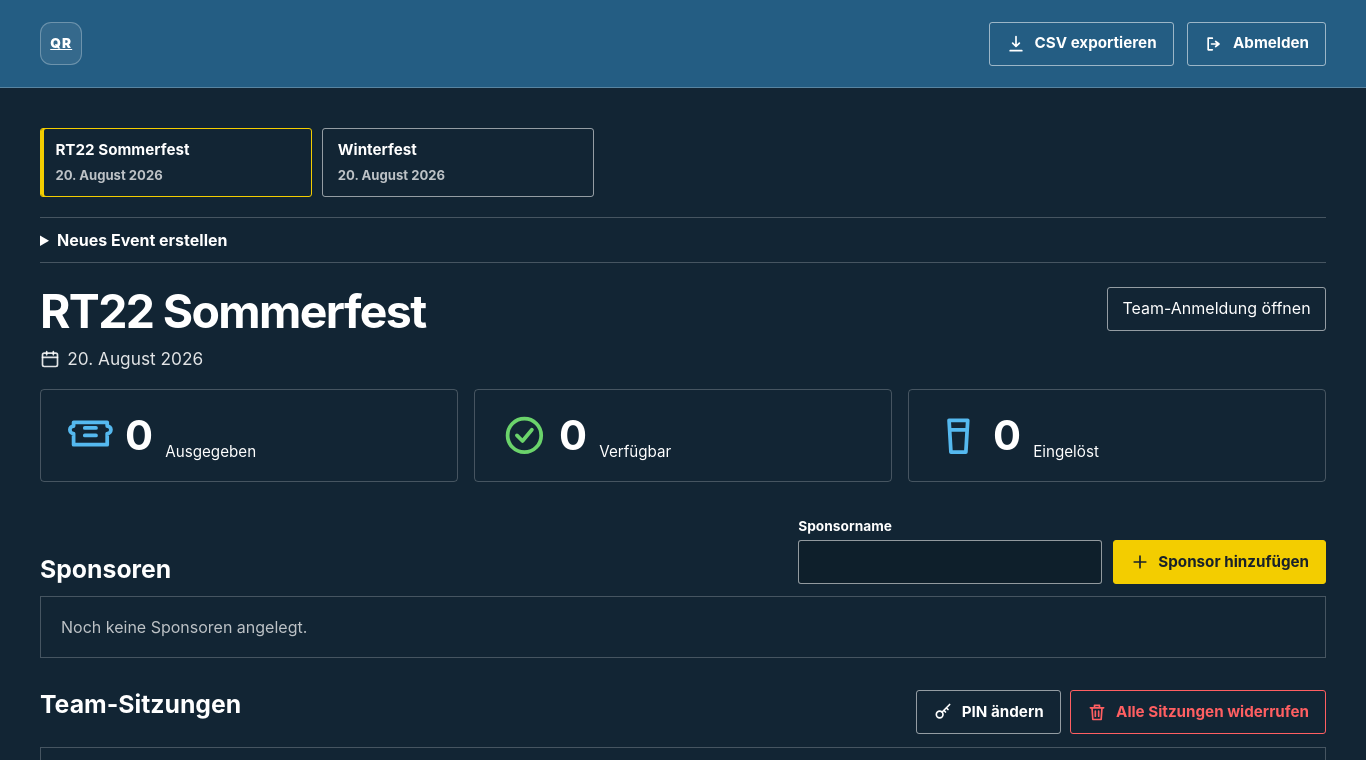
Test case: a failed event-detail request fails closed and offers an explicit retry
Check: the heading "RT22 Sommerfest" is shown, box [40,283,426,339]
Click the button "Winterfest 20. August 2026". click: {"x": 377, "y": 150}
box: [322,128,594,197]
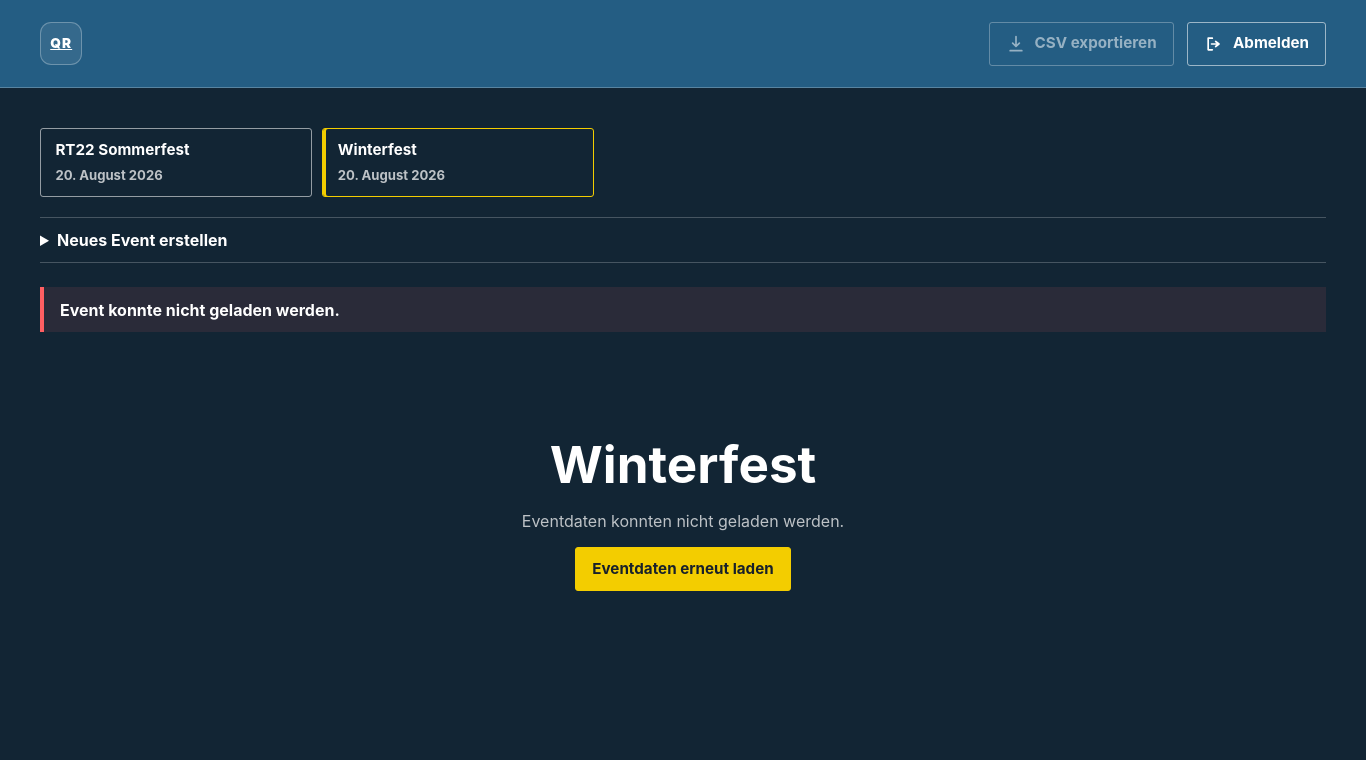
Check: the message reads "Event konnte nicht geladen werden.", box [60,300,340,320]
Check: the element "Gutschein-Übersicht" is gone
Click the button "Eventdaten erneut laden". click: {"x": 683, "y": 569}
box: [575,547,791,591]
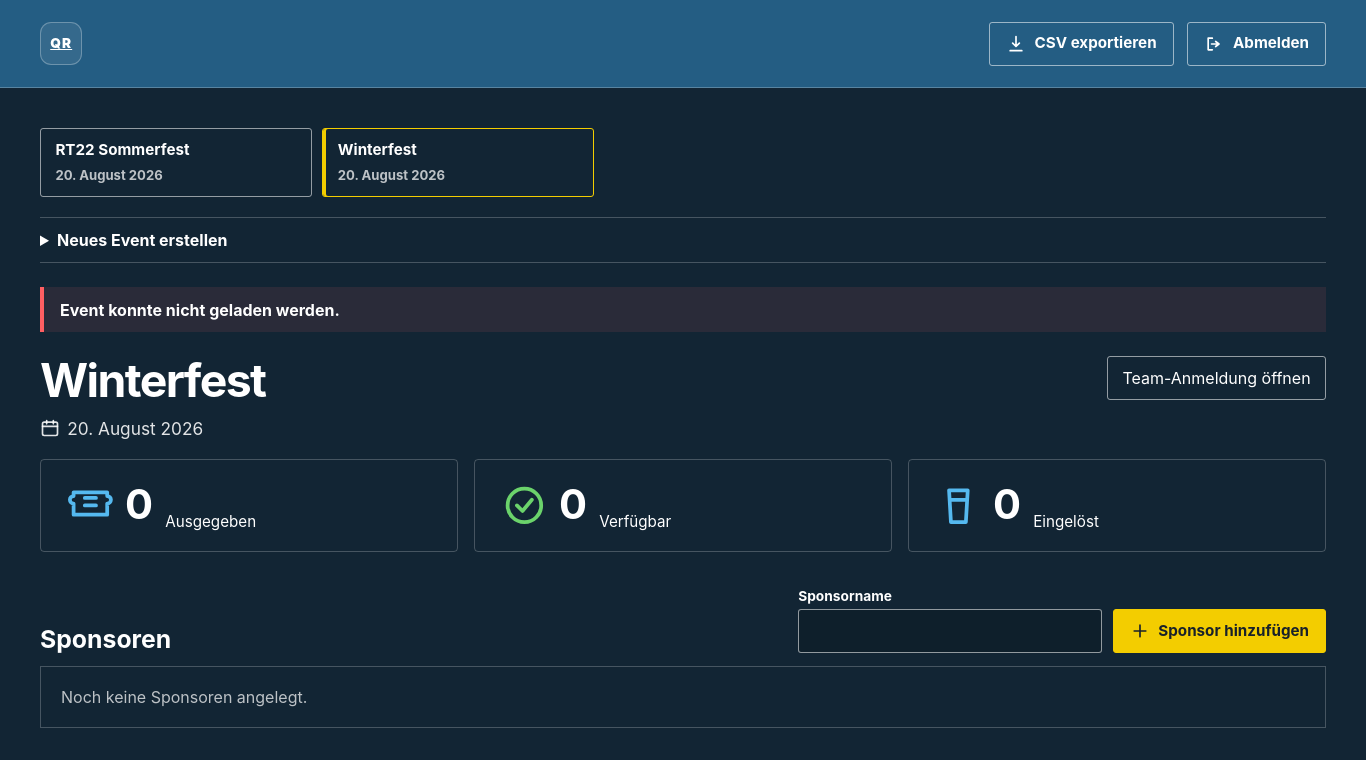
Check: the heading "Winterfest" is shown, box [40,352,265,408]
Check: the element named "Gutschein-Übersicht" is shown, box [40,459,1326,552]
